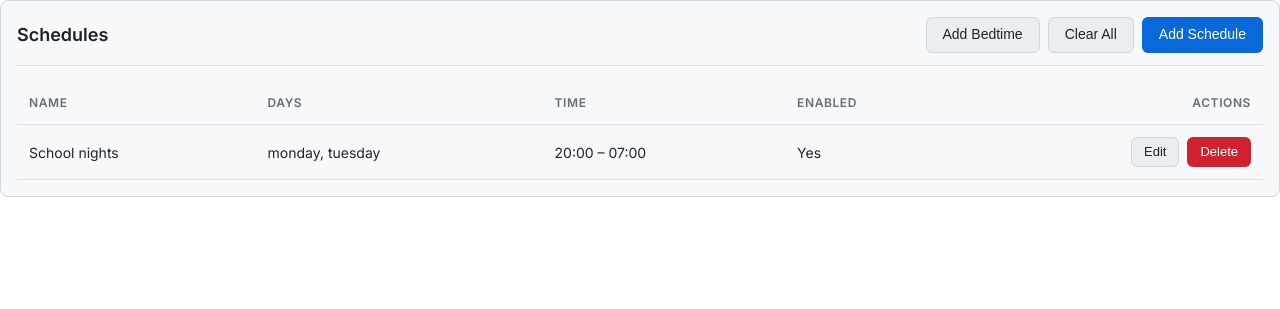
Test: ProfileSchedulesCard › a successful delete confirmation re-fetches and renders the (now empty) list
This screenshot has width=1280, height=309.
Expected: the text "School nights" is shown, [17,124,256,180]
Click the button "Delete" at (1219, 152), box [1187,137,1251,167]
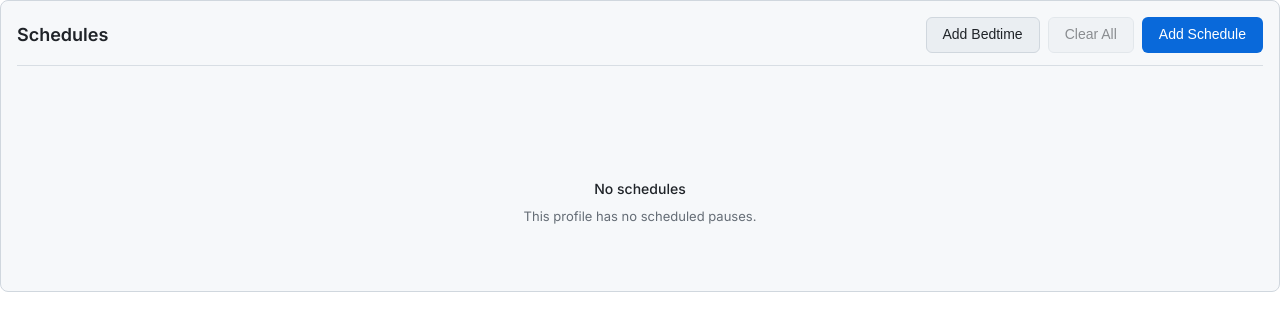
Expected: the text "School nights" is gone
